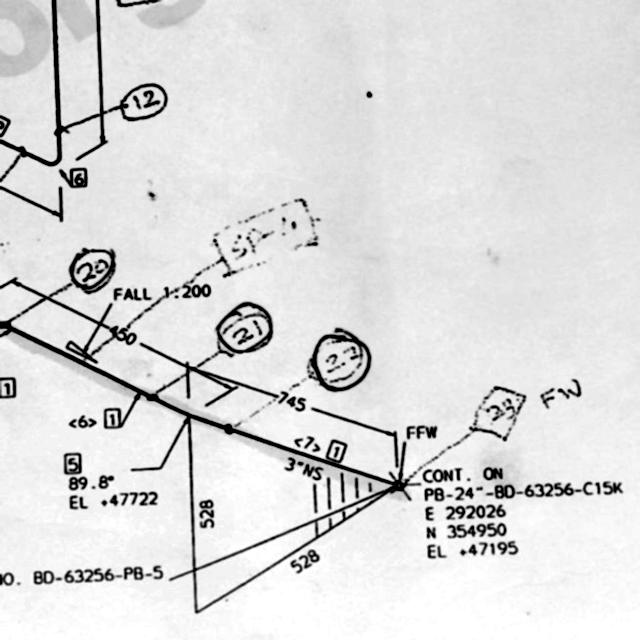Item number: (66, 164, 90, 191), (101, 405, 125, 431), (63, 450, 83, 475), (1, 374, 19, 400)
Measrement: (197, 491, 386, 620)
Pipeline: (3, 329, 394, 490), (1, 4, 68, 174)
Symbol: (384, 434, 413, 498)
Weld number: (305, 323, 375, 397), (211, 297, 278, 362), (66, 244, 120, 300), (116, 78, 171, 126)
other: (417, 463, 629, 562), (65, 471, 162, 512)
